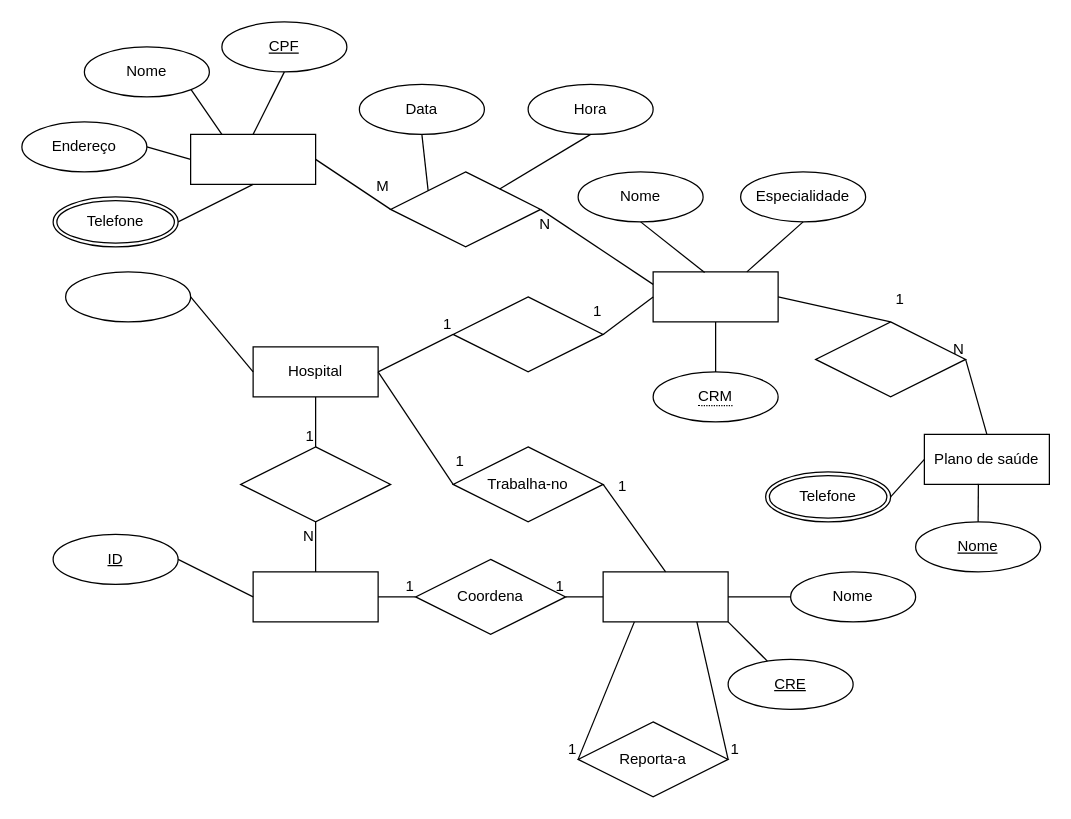
The diagram is 1071 pixels wide and 819 high, and some of its shapes have lost their labels. Here are the shapes that lost their labels. From the top down, the centre of each, then its label:
At point 252,158: "Paciente".
At point 465,209: "Atende".
At point 127,296: "Local".
At point 715,296: "Médico".
At point 527,334: "Trabalha-para".
At point 890,359: "Filiado-com".
At point 315,484: "Possui".
At point 315,596: "Ala".
At point 665,596: "Enfermeiro".
